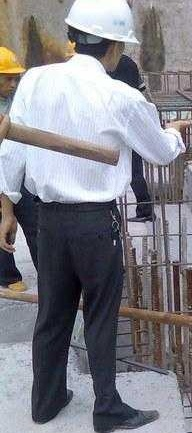boots: (30, 389, 72, 424), (0, 279, 26, 291)
hard-hat: (63, 0, 140, 45)
